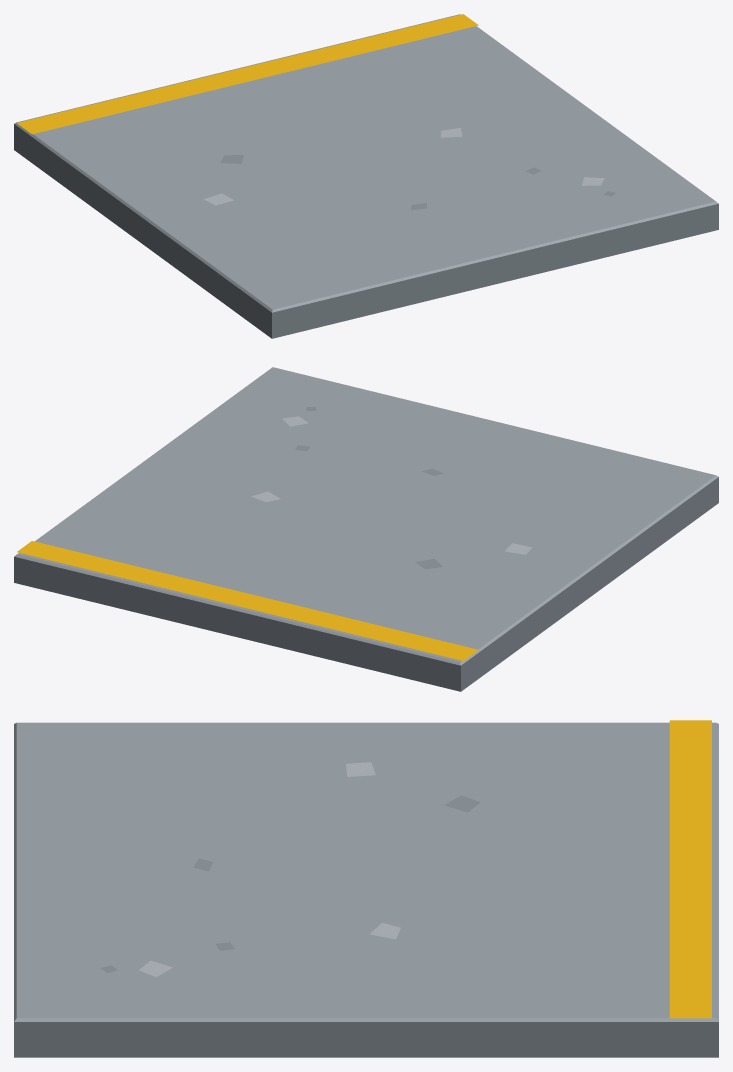
Rendered from boden_hallenboden_linie_a.glb.
3 views of the same model, one above another, from view 1: azimuth 30°, elevation 25°; view 2: azimuth 150°, elevation 25°; view 3: azimuth 270°, elevation 25° (orthographic). The views are drawn at different scales.
Visible parts, largest first — view 1: boden_hallenboden_linie_a; view 2: boden_hallenboden_linie_a; view 3: boden_hallenboden_linie_a.
Part boxes in pixels (bbox=[...]): boden_hallenboden_linie_a: bbox=[14, 14, 718, 338]; boden_hallenboden_linie_a: bbox=[14, 367, 718, 691]; boden_hallenboden_linie_a: bbox=[14, 720, 718, 1057].
Bounding box in the file's own units: 1 × 0.0616 × 1.
